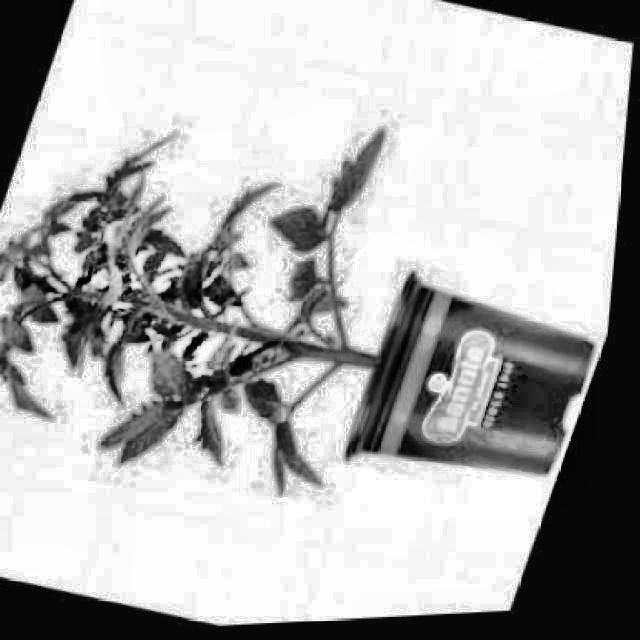plants: (0, 32, 483, 543)
